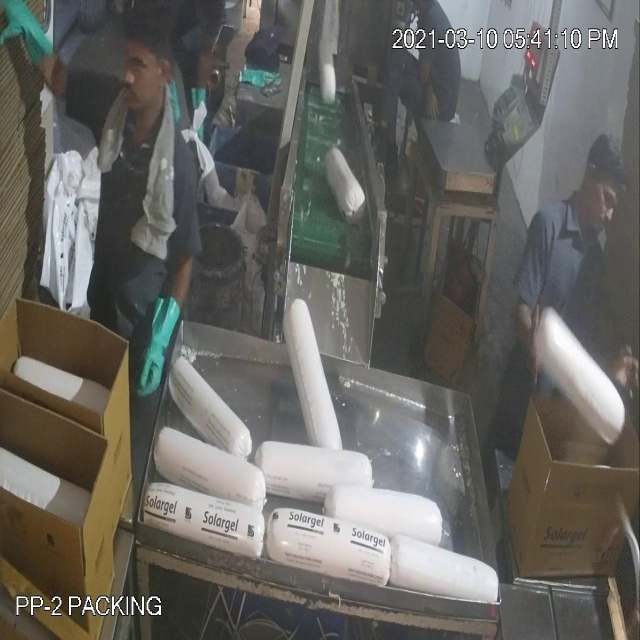Guantes: (128, 270, 190, 416), (1, 1, 62, 76)
Sin_guantes: (502, 282, 557, 391)
